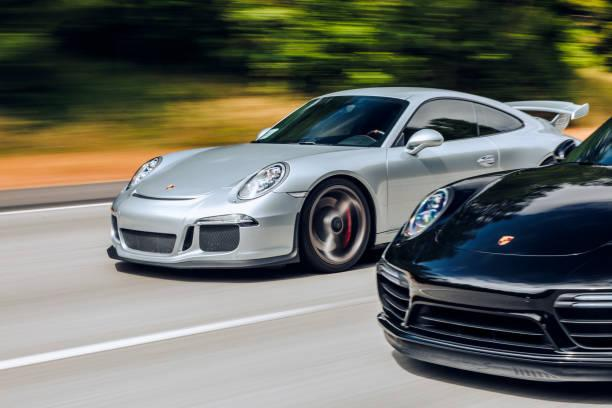porsche: (491, 230, 518, 251), (159, 180, 184, 194)
